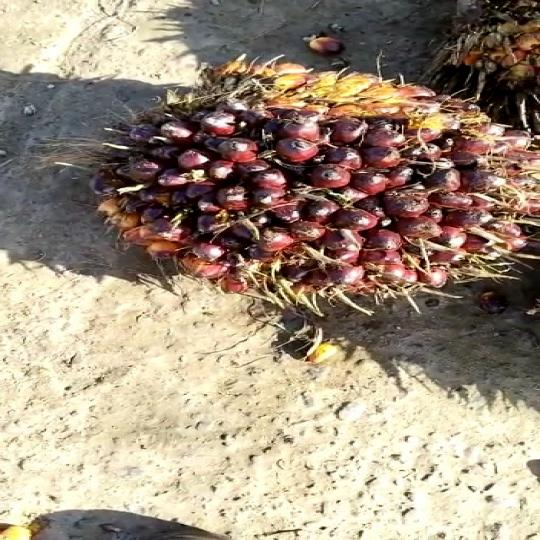kurang masak: (73, 44, 540, 318)
